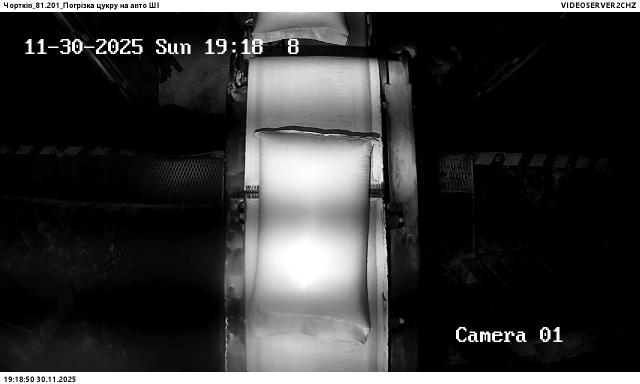bag: (251, 129, 379, 344), (254, 12, 356, 46)
